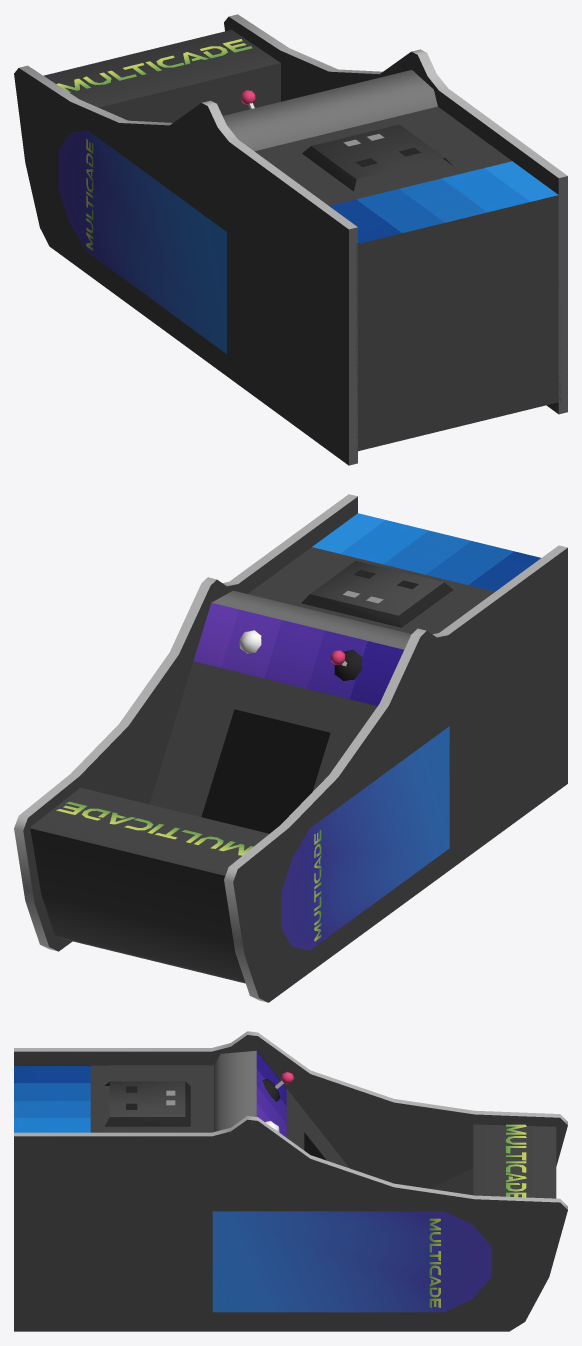
Rendered from arcade.glb.
3 views of the same model, one above another, from view 1: azimuth 30°, elevation 25°; view 2: azimuth 150°, elevation 25°; view 3: azimuth 270°, elevation 25° (orthographic). The views are drawn at different scales.
Visible parts, largest first — view 1: entertainment_019; view 2: entertainment_019; view 3: entertainment_019.
Part boxes in pixels (x1,y1,x2,y2): entertainment_019: (14, 14, 567, 465); entertainment_019: (14, 494, 567, 1002); entertainment_019: (14, 1031, 567, 1331).
Bounding box in the file's own units: 0.8302 × 0.8949 × 2.12.
1 material, 1 textured.
